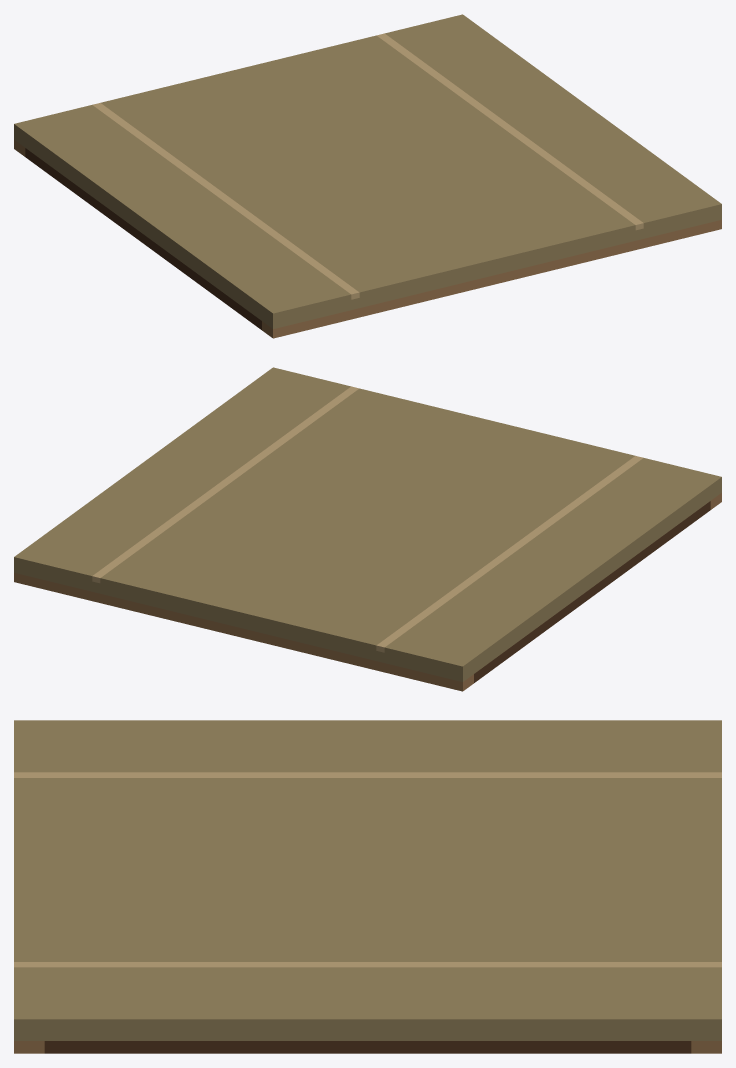
The model's file is roof_lod1.glb.
The picture shows the model from 3 angles, top to bottom: view 1: azimuth 30°, elevation 25°; view 2: azimuth 150°, elevation 25°; view 3: azimuth 270°, elevation 25°; orthographic projection. The views are drawn at different scales.
Parts seen in each view (by area): view 1: roof_mesh_1, roof_mesh_4, roof_mesh_2, roof_mesh_3; view 2: roof_mesh_1, roof_mesh_4, roof_mesh_2, roof_mesh_3; view 3: roof_mesh_1, roof_mesh_2, roof_mesh_3, roof_mesh_4.
Part boxes in pixels (bbox=[...]): roof_mesh_1: bbox=[14, 14, 721, 328]; roof_mesh_4: bbox=[14, 140, 721, 338]; roof_mesh_2: bbox=[92, 33, 643, 299]; roof_mesh_3: bbox=[25, 148, 261, 329]; roof_mesh_1: bbox=[14, 367, 721, 681]; roof_mesh_4: bbox=[14, 493, 721, 691]; roof_mesh_2: bbox=[92, 386, 643, 652]; roof_mesh_3: bbox=[474, 501, 710, 682]; roof_mesh_1: bbox=[14, 720, 721, 1040]; roof_mesh_2: bbox=[14, 772, 721, 967]; roof_mesh_3: bbox=[44, 1041, 691, 1053]; roof_mesh_4: bbox=[14, 1041, 721, 1053].
Size of the model in its own units: 3 by 0.16 by 3.
